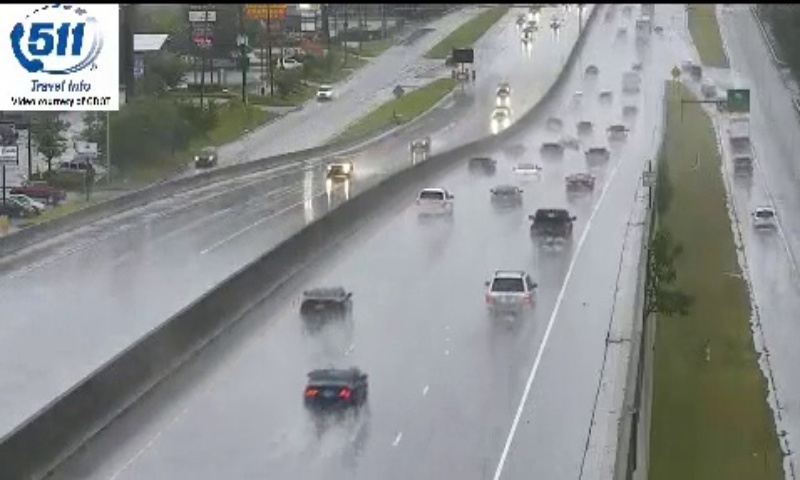car: (304, 365, 366, 408), (485, 272, 535, 314), (299, 287, 353, 320), (529, 209, 574, 248), (415, 188, 453, 220)
